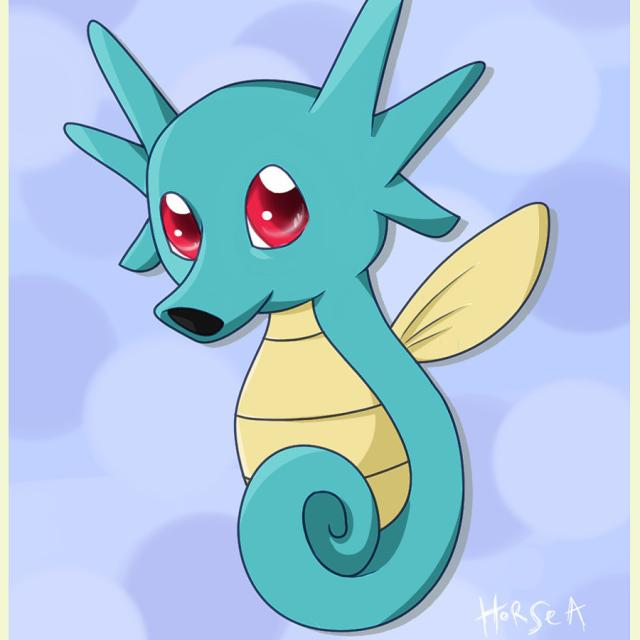Horsea: (82, 20, 493, 626)
